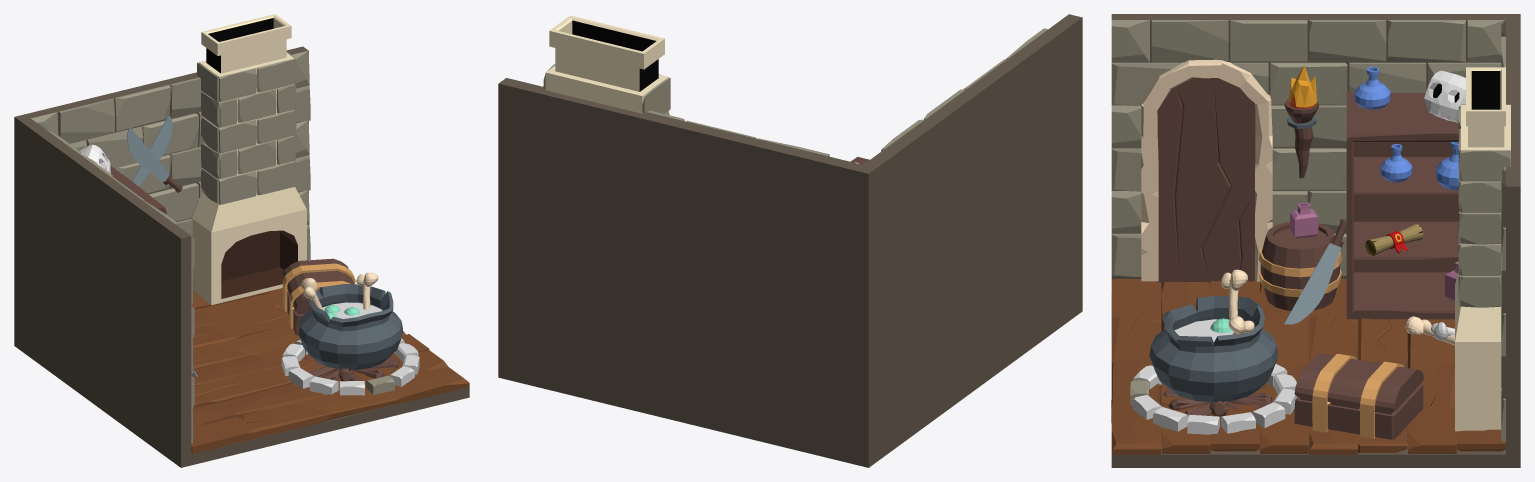
The model's file is Witch ROOM.fbx.
The picture shows the model from 3 angles, left to right: view 1: azimuth 30°, elevation 25°; view 2: azimuth 150°, elevation 25°; view 3: azimuth 270°, elevation 25°; orthographic projection. The views are drawn at different scales.
Parts seen in each view (by area): view 1: wall, floor, Cube.002, stones2, Cube.006, Circle, Plane, Cube.008, stones1, Plane.001, Plane.003, skrin; view 2: wall, Cube.002, Cube.008, stones1; view 3: stones1, floor, skrin, Plane.005, wall, Cube.002, Circle, Plane, Cube.005, Cube.003, Cylinder.001, Plane.004 (+18 smaller).
Part boxes in pixels (bbox=[...]): wall: bbox=[14, 46, 469, 467]; floor: bbox=[191, 288, 469, 454]; Cube.002: bbox=[191, 14, 306, 305]; stones2: bbox=[31, 50, 310, 269]; Cube.006: bbox=[219, 59, 295, 204]; Circle: bbox=[298, 283, 402, 369]; Plane: bbox=[282, 258, 355, 335]; Cube.008: bbox=[197, 62, 218, 204]; stones1: bbox=[31, 119, 194, 443]; Plane.001: bbox=[126, 127, 182, 192]; Plane.003: bbox=[132, 115, 172, 186]; skrin: bbox=[110, 166, 166, 214]; wall: bbox=[498, 14, 1082, 467]; Cube.002: bbox=[545, 15, 668, 113]; Cube.008: bbox=[642, 77, 670, 115]; stones1: bbox=[863, 14, 1068, 164]; stones1: bbox=[1111, 20, 1505, 276]; floor: bbox=[1111, 279, 1506, 454]; skrin: bbox=[1346, 92, 1458, 319]; Plane.005: bbox=[1156, 78, 1255, 281]; wall: bbox=[1111, 14, 1520, 467]; Cube.002: bbox=[1455, 67, 1510, 431]; Circle: bbox=[1149, 296, 1278, 402]; Plane: bbox=[1294, 353, 1423, 439]; Cube.005: bbox=[1141, 59, 1272, 281]; Cube.003: bbox=[1460, 150, 1510, 307]; Cylinder.001: bbox=[1259, 221, 1341, 310]; Plane.004: bbox=[1284, 219, 1346, 324].
Bounding box in the file's own units: 830 × 753 × 831.
